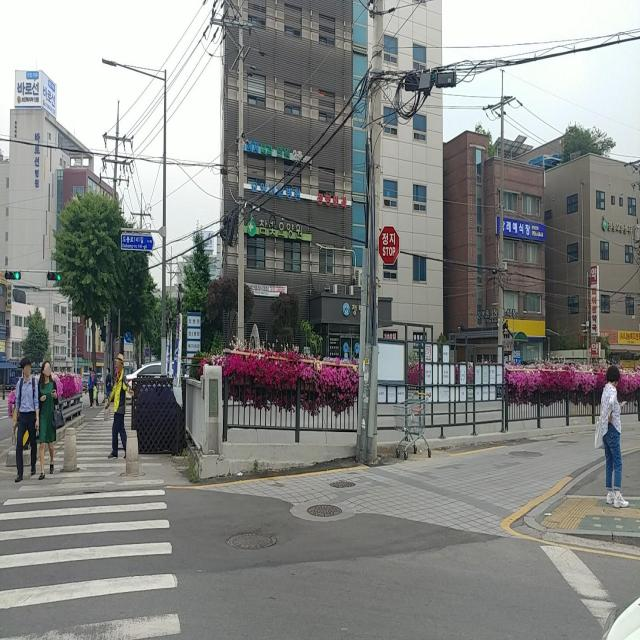횡단보도: (0, 400, 183, 640)
